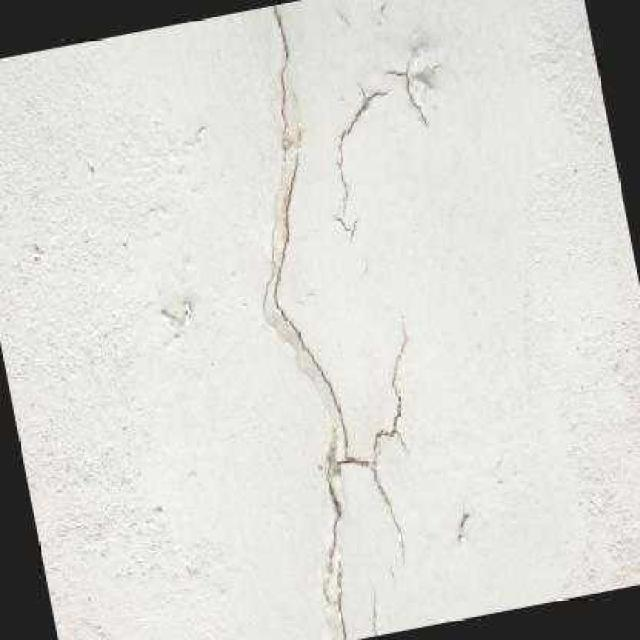D00: (258, 3, 406, 640), (333, 79, 383, 193)
